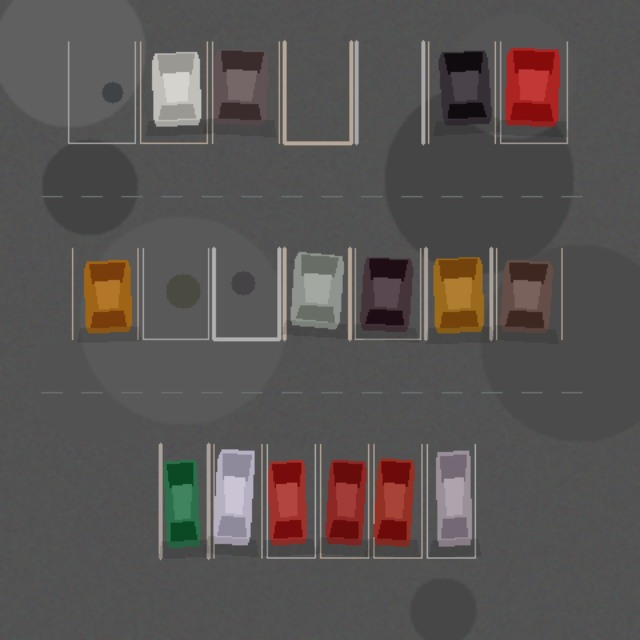space-empty: (68, 41, 135, 143), (284, 41, 351, 143), (356, 41, 423, 143), (213, 248, 279, 339), (143, 248, 208, 339)
space-occupied: (140, 41, 207, 143), (212, 41, 279, 143), (428, 41, 495, 143), (500, 41, 567, 143), (425, 248, 491, 339), (72, 248, 137, 339), (284, 248, 349, 339), (355, 248, 420, 339), (496, 248, 561, 339), (160, 444, 208, 557), (213, 444, 261, 557), (267, 444, 315, 557), (320, 444, 368, 557), (373, 444, 421, 557), (427, 444, 475, 557)
